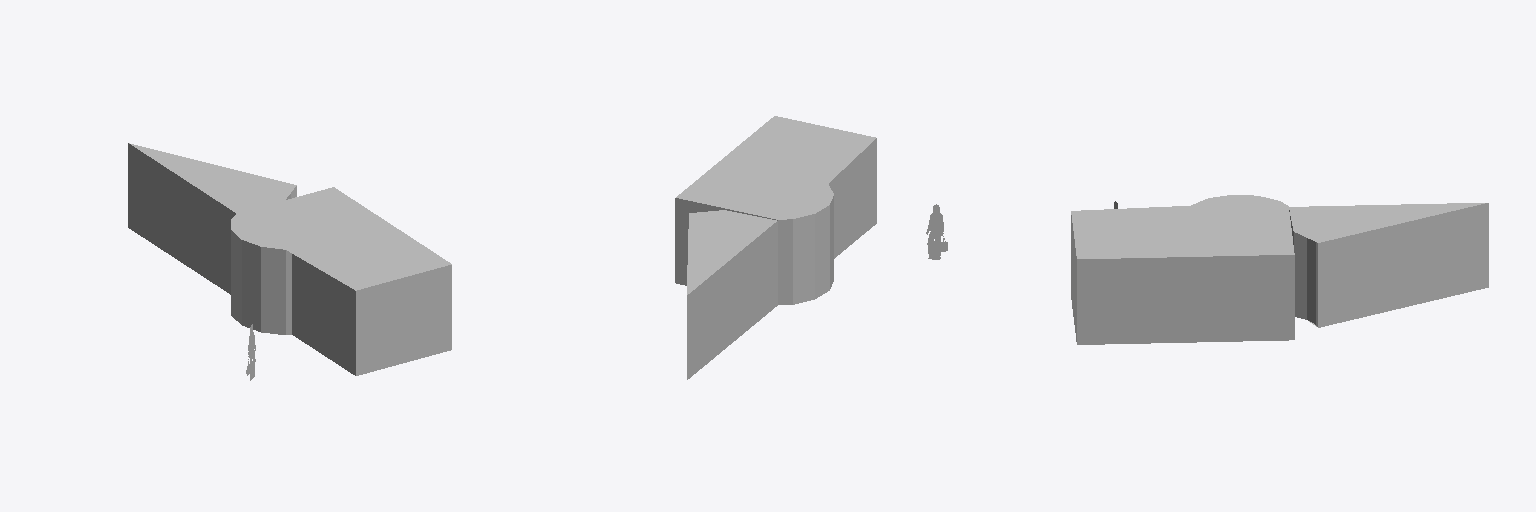
3 renders of one model, left to right at view 1: azimuth 30°, elevation 25°; view 2: azimuth 150°, elevation 25°; view 3: azimuth 270°, elevation 25°, orthographic.
Visible parts, largest first — view 1: Mesh2 Model; view 2: Mesh2 Model, Mesh1 Laura1 Model; view 3: Mesh2 Model.
Part boxes in pixels (left/top/right/bottom): Mesh2 Model: left=128, top=143, right=451, bottom=375; Mesh2 Model: left=675, top=116, right=876, bottom=379; Mesh1 Laura1 Model: left=926, top=204, right=947, bottom=259; Mesh2 Model: left=1071, top=195, right=1488, bottom=344.
Bounding box in the file's own units: 610 × 263 × 1163.